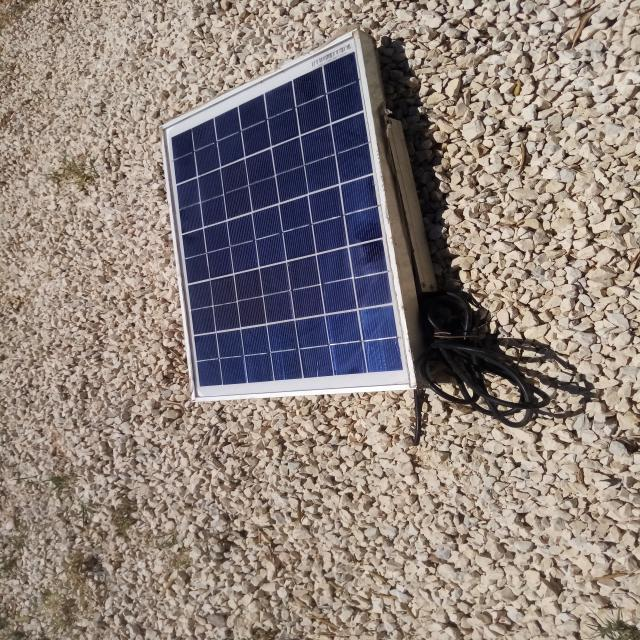no faulty: (159, 30, 414, 399)
